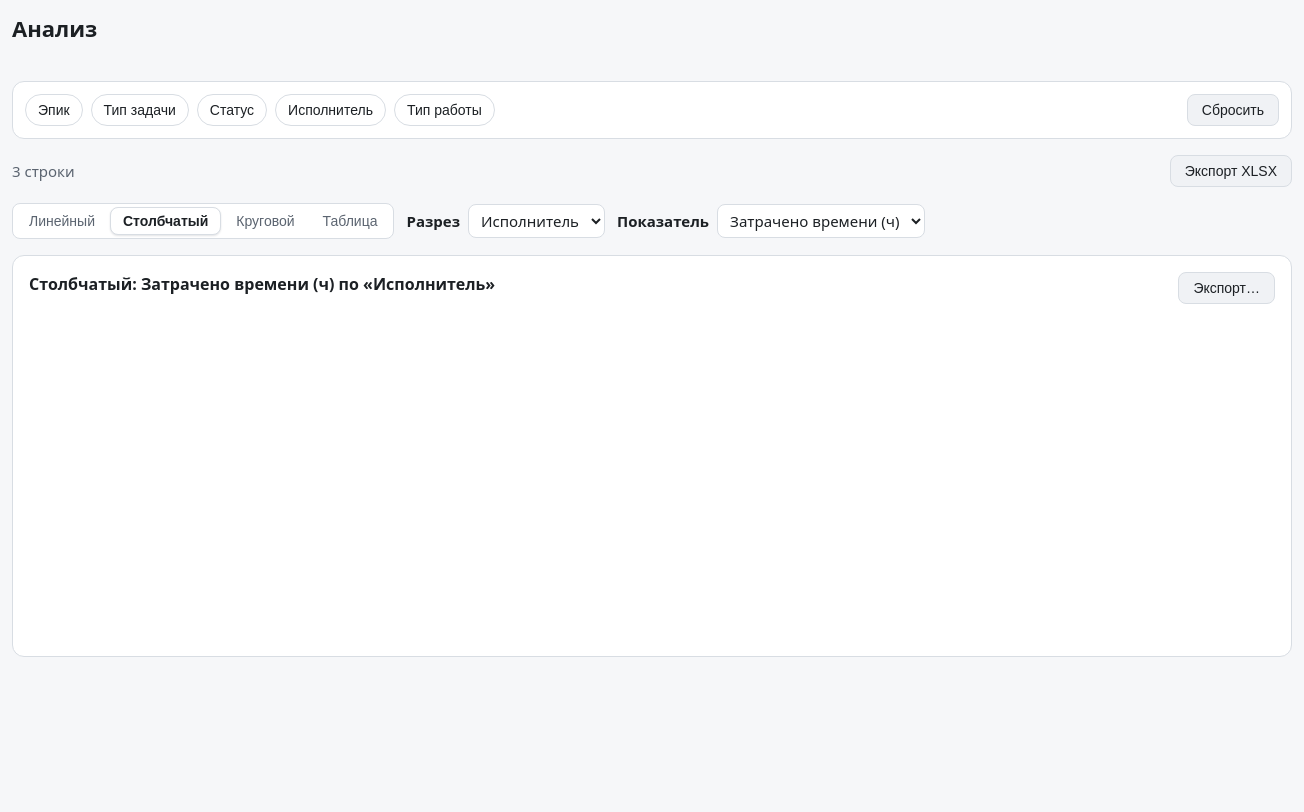
it: AnalysisScreen export (CAP-7) › EXPORT_PDF: downloads <base>-отчёт.pdf and confirms with a status toast
This screenshot has width=1304, height=812.
Click the button with class "export-button": [1227, 288] box [1178,272,1275,304]
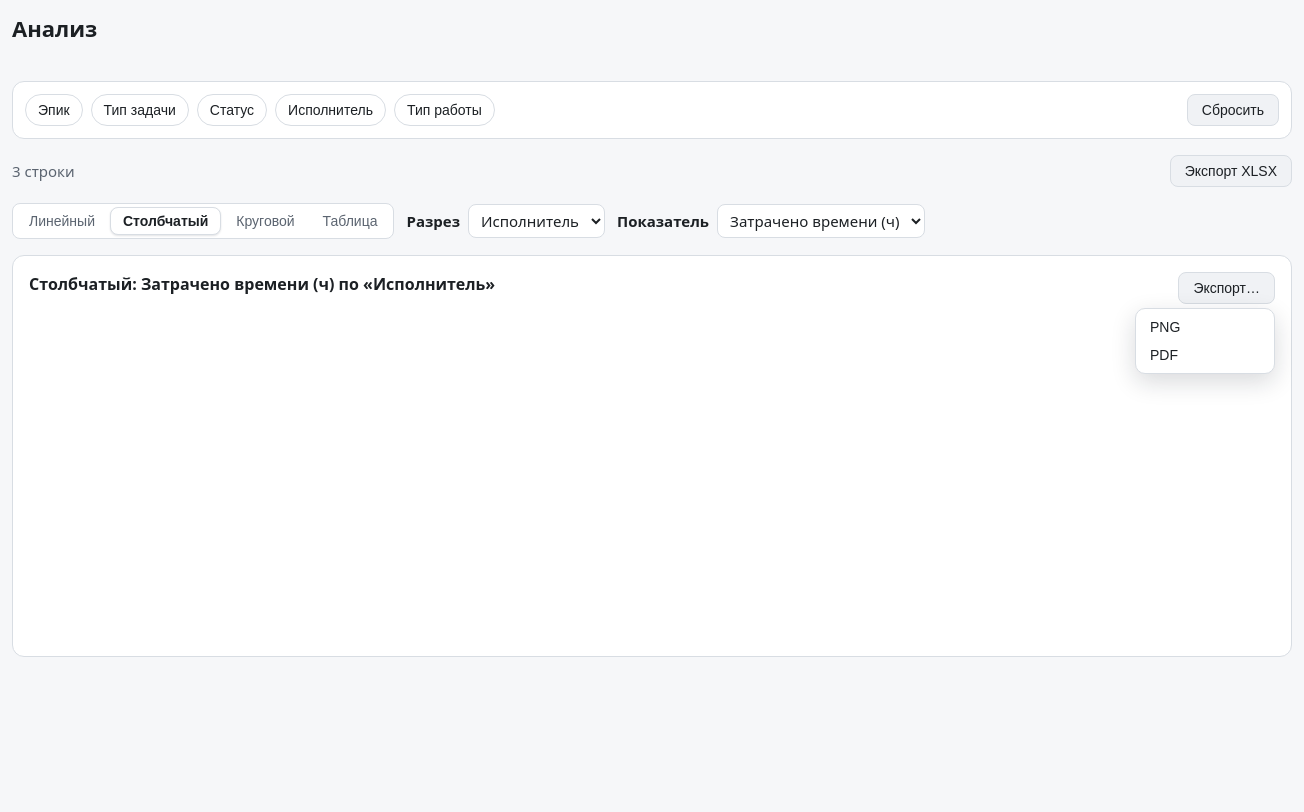
Click the button with class "export-option" showing "PDF": [1205, 355] box [1140,341,1270,369]
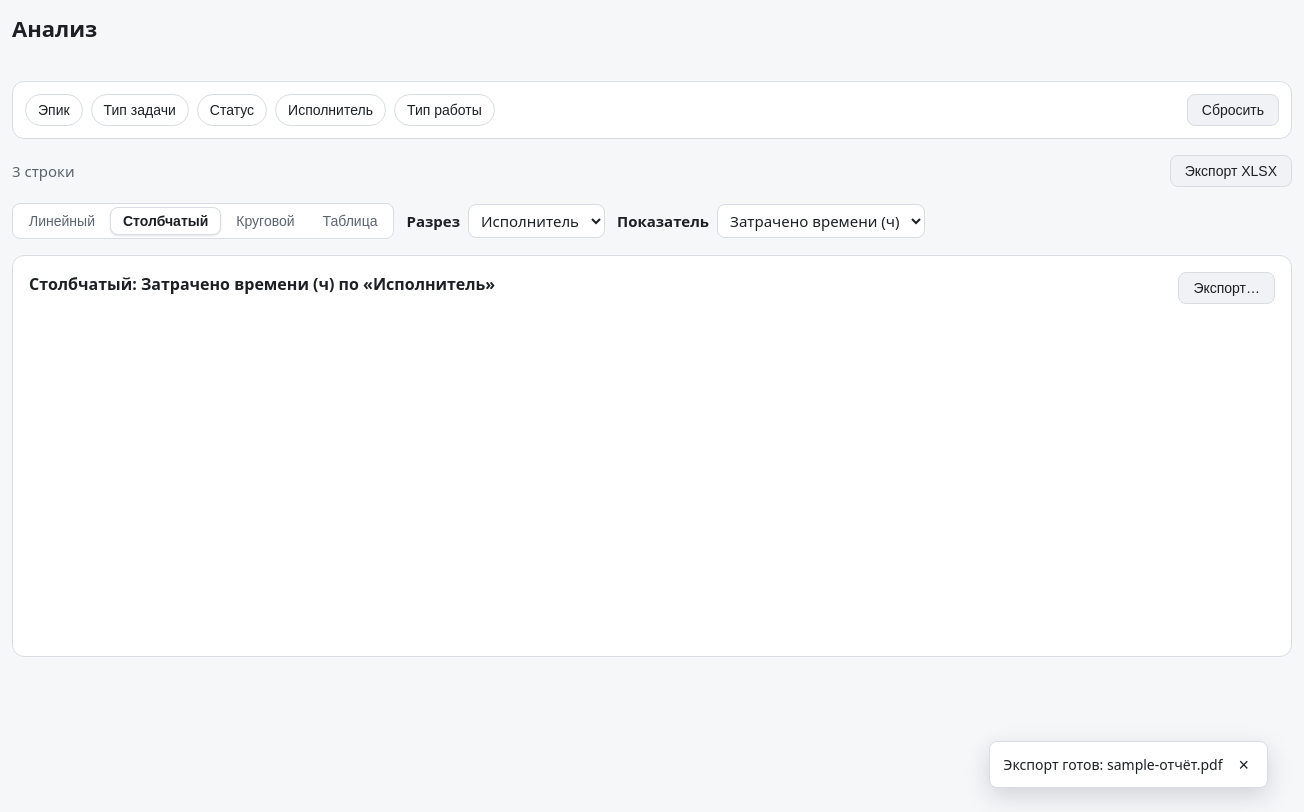
Now the message with class "toast" shows "Экспорт готов: sample-отчёт.pdf", box [1004,755,1222,774]
